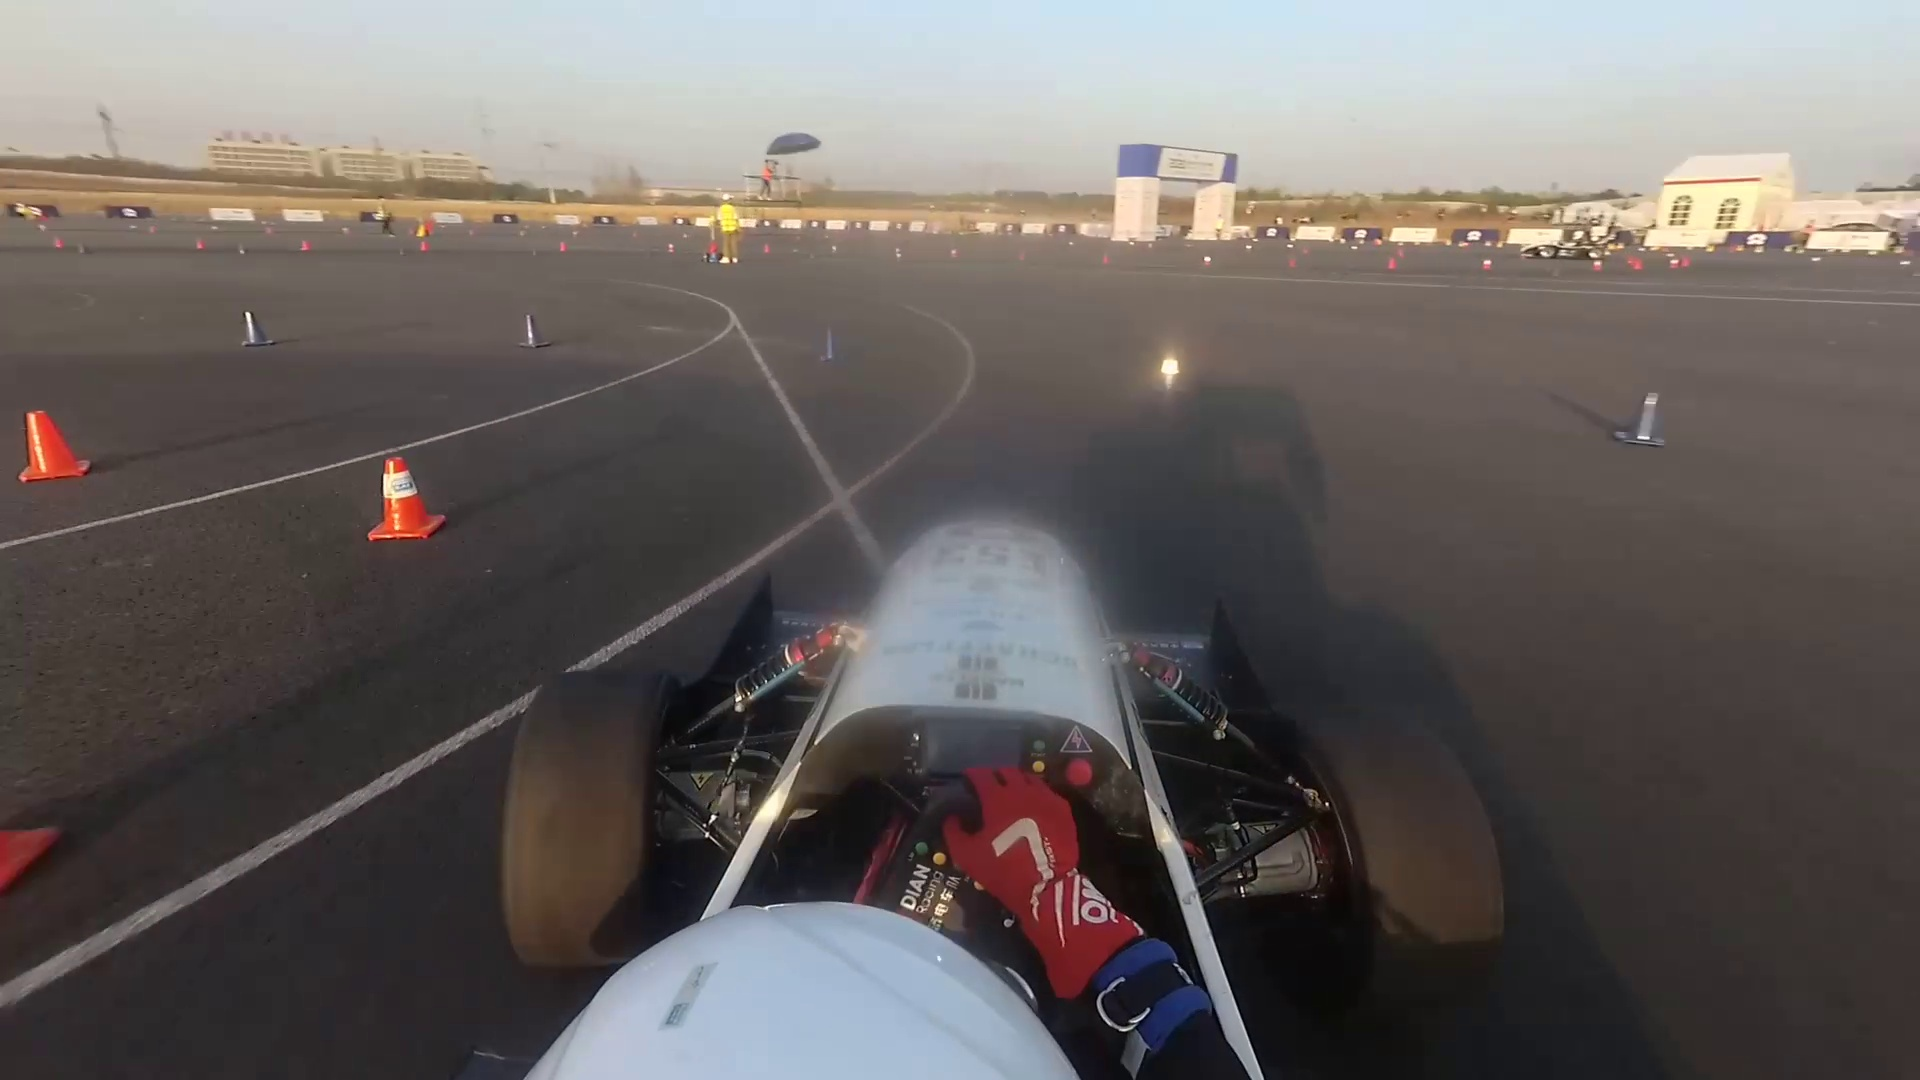blue_cone: (1614, 381, 1688, 458), (227, 309, 276, 352), (812, 326, 847, 377), (1153, 342, 1185, 392), (520, 313, 553, 356)
red_cone: (20, 405, 105, 487), (373, 462, 435, 537)
